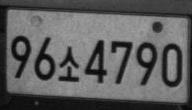0: (161, 43, 183, 87)
4: (84, 39, 107, 84)
6: (34, 36, 56, 81)
7: (110, 40, 133, 84)
9: (135, 41, 158, 86), (10, 34, 31, 78)
소: (57, 45, 80, 82)
